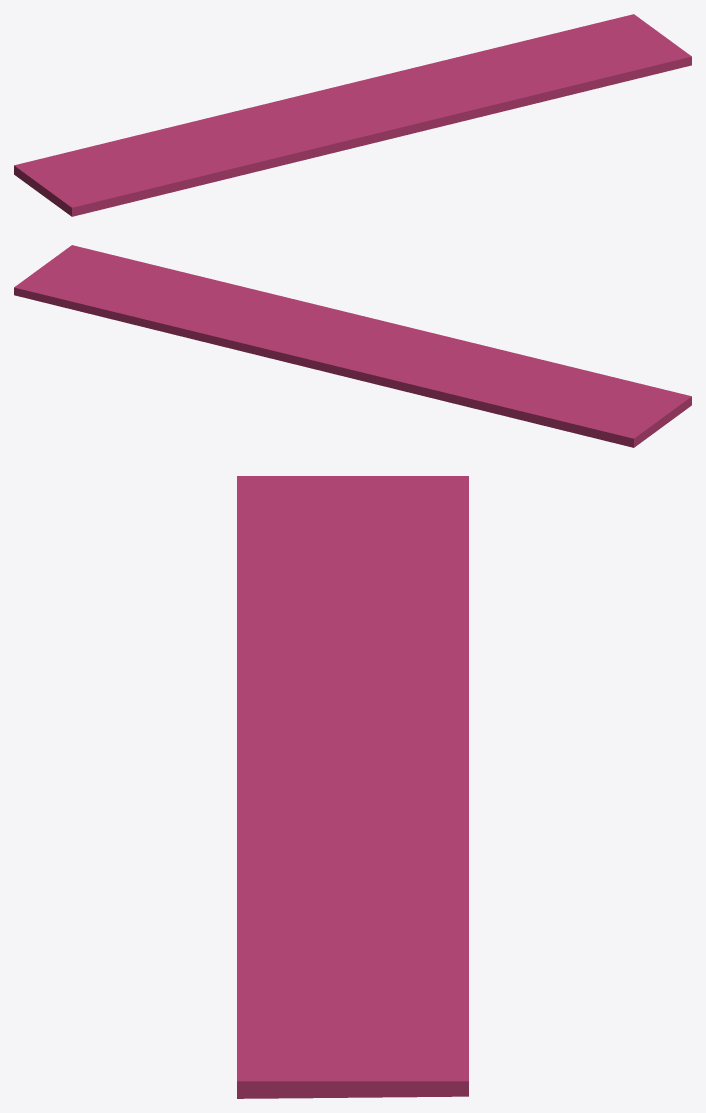
File: level1yol (1).fbx
3 views of the same model, one above another, from view 1: azimuth 30°, elevation 25°; view 2: azimuth 150°, elevation 25°; view 3: azimuth 270°, elevation 25° (orthographic). The views are drawn at different scales.
Visible parts, largest first — view 1: Plane.004; view 2: Plane.004; view 3: Plane.004.
Boxes of the visible parts, x1,y1,x2,y2 form: Plane.004: [14, 14, 691, 216]; Plane.004: [14, 245, 691, 447]; Plane.004: [237, 476, 468, 1098].
Size of the model in its own units: 7558 by 107 by 1225.
